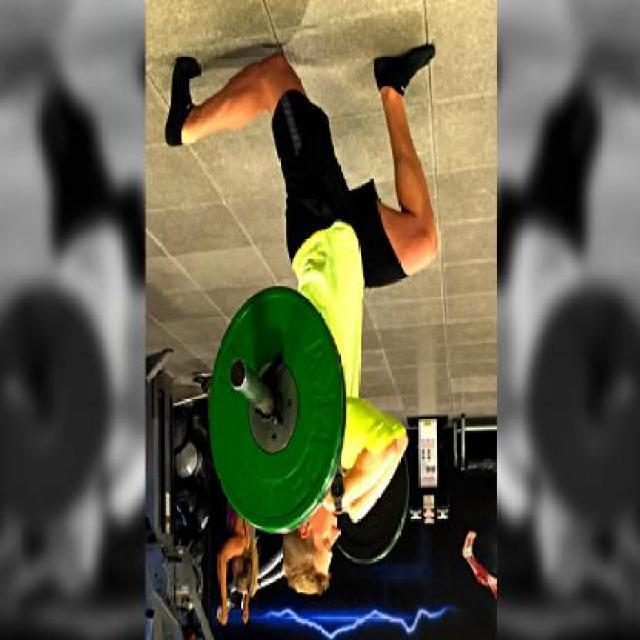Barbell: (226, 358, 249, 394)
